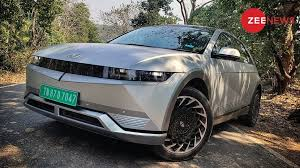Honda Ioniq: (18, 23, 265, 161)
